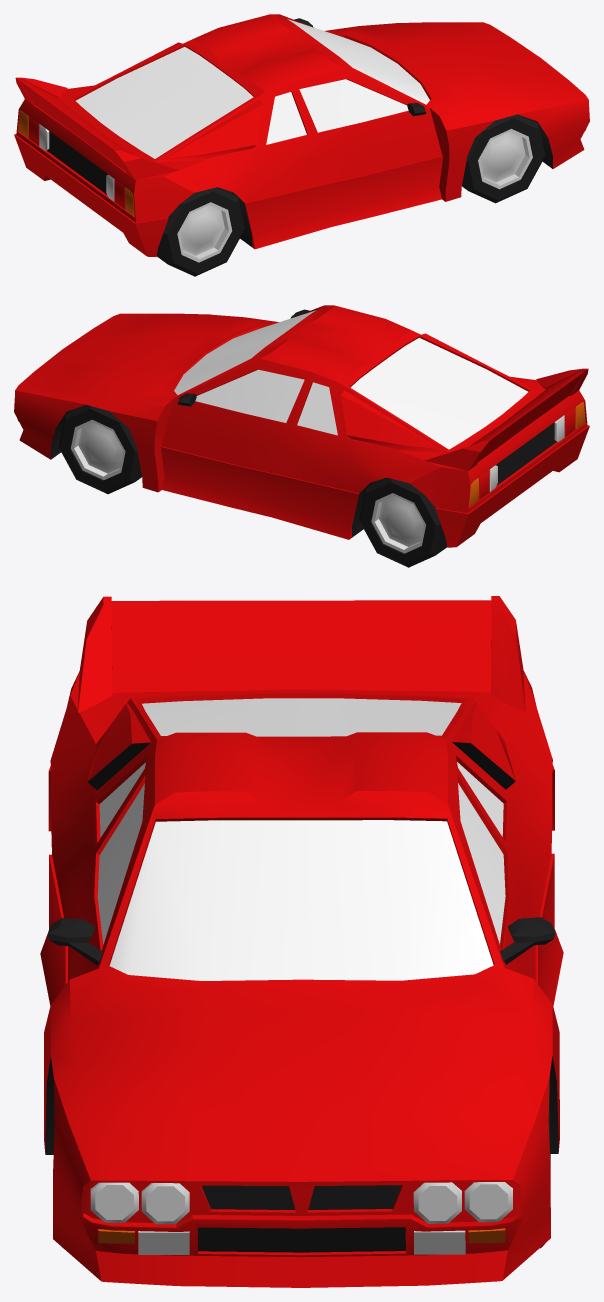
File: WIP_Lancia_037_v01.fbx
3 renders of one model, top to bottom at view 1: azimuth 30°, elevation 25°; view 2: azimuth 150°, elevation 25°; view 3: azimuth 270°, elevation 25°, orthographic. The views are drawn at different scales.
Parts seen in each view (by area): view 1: Body, Wheels.004, Wheels.001; view 2: Body, Wheels.003, Wheels.002; view 3: Body.
Part boxes in pixels (x1,y1,x2,y2): Body: (14,14,589,257); Wheels.004: (157,187,244,276); Wheels.001: (462,114,545,203); Body: (14,305,589,547); Wheels.003: (359,477,447,567); Wheels.002: (58,405,141,494); Body: (40,596,563,1287).
Bounding box in the file's own units: 396 × 122 × 188.
